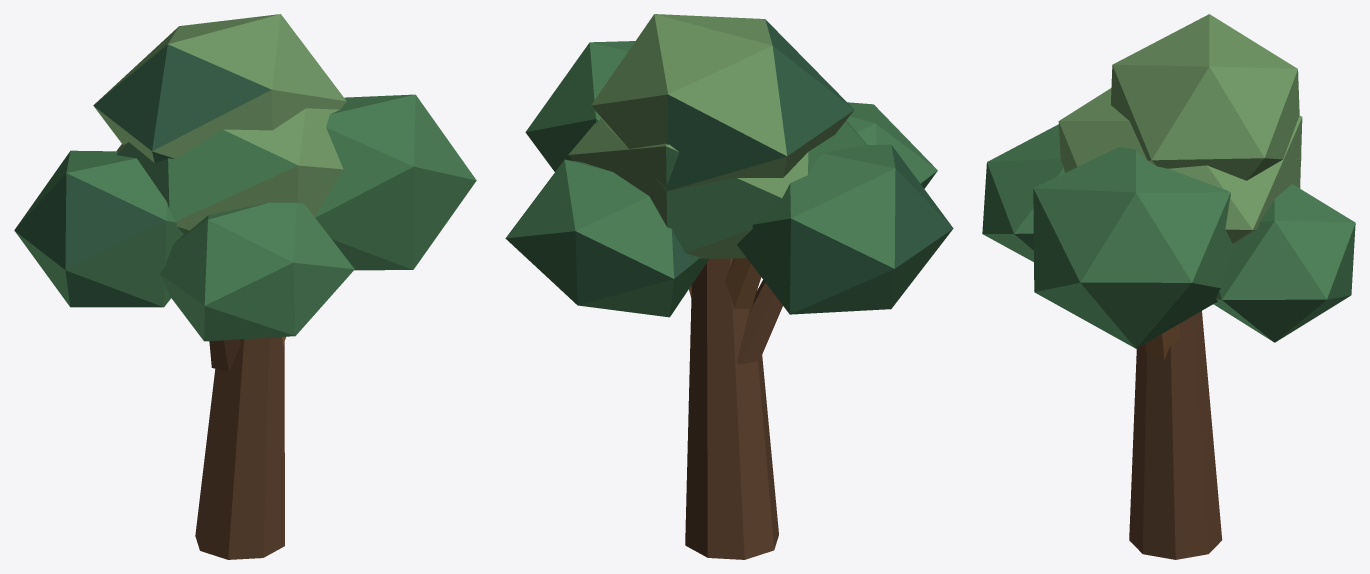
The model's file is oak_tree.obj.
The picture shows the model from 3 angles, left to right: view 1: azimuth 30°, elevation 25°; view 2: azimuth 150°, elevation 25°; view 3: azimuth 270°, elevation 25°; orthographic projection. The views are drawn at different scales.
Visible parts, largest first — view 1: OakTree; view 2: OakTree; view 3: OakTree.
Boxes of the visible parts, x1=… form: OakTree: x1=14, y1=14, x2=476, y2=559; OakTree: x1=505, y1=14, x2=953, y2=559; OakTree: x1=982, y1=14, x2=1355, y2=559.
Size of the model in its own units: 4.47 by 5.59 by 3.77.
